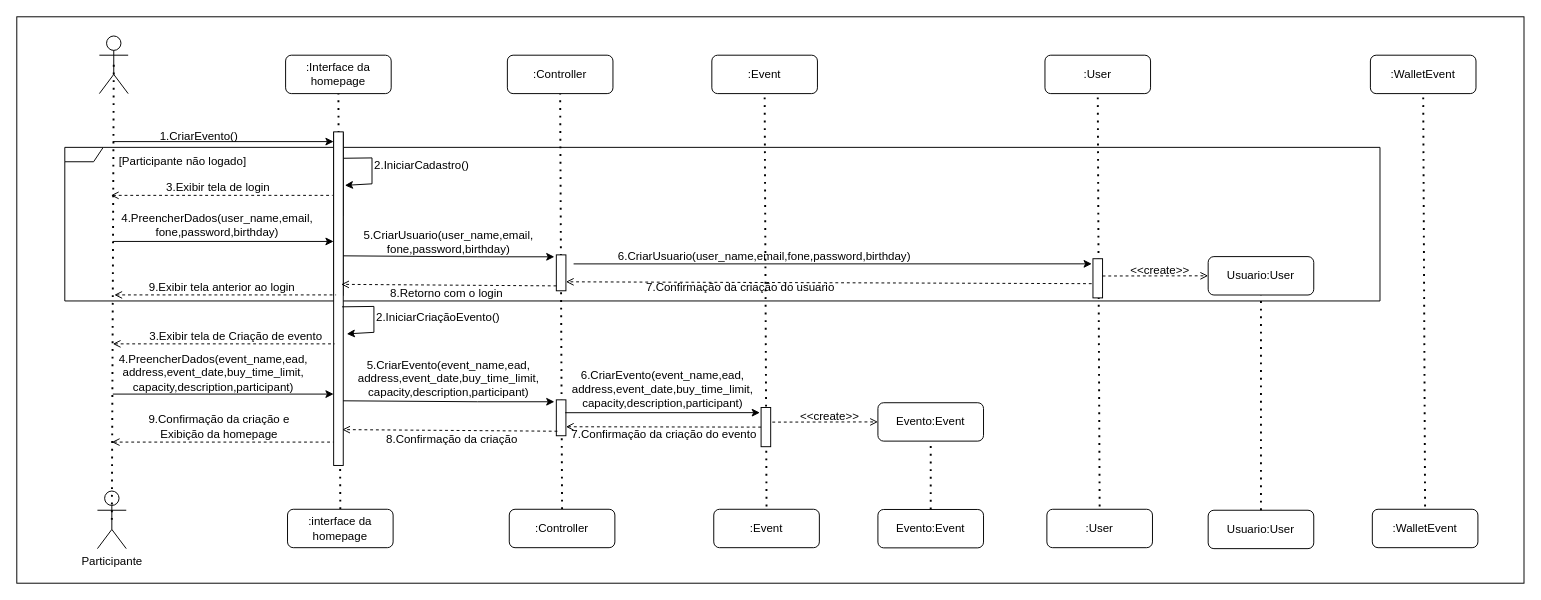
This 1541x600 diagram has some shape labels left out. Each missing label, with the box of its shape:
:Participante: (98, 35, 128, 94)
alt: (64, 146, 1380, 301)
